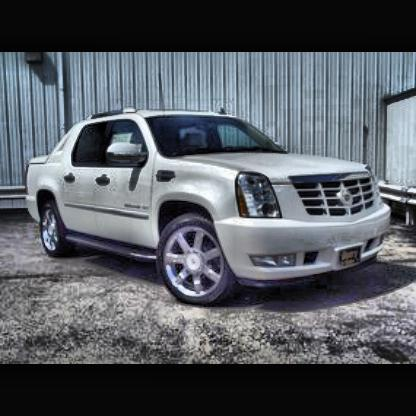Cadillac Escalade EXT Crew Cab 2007: (6, 83, 416, 336)
